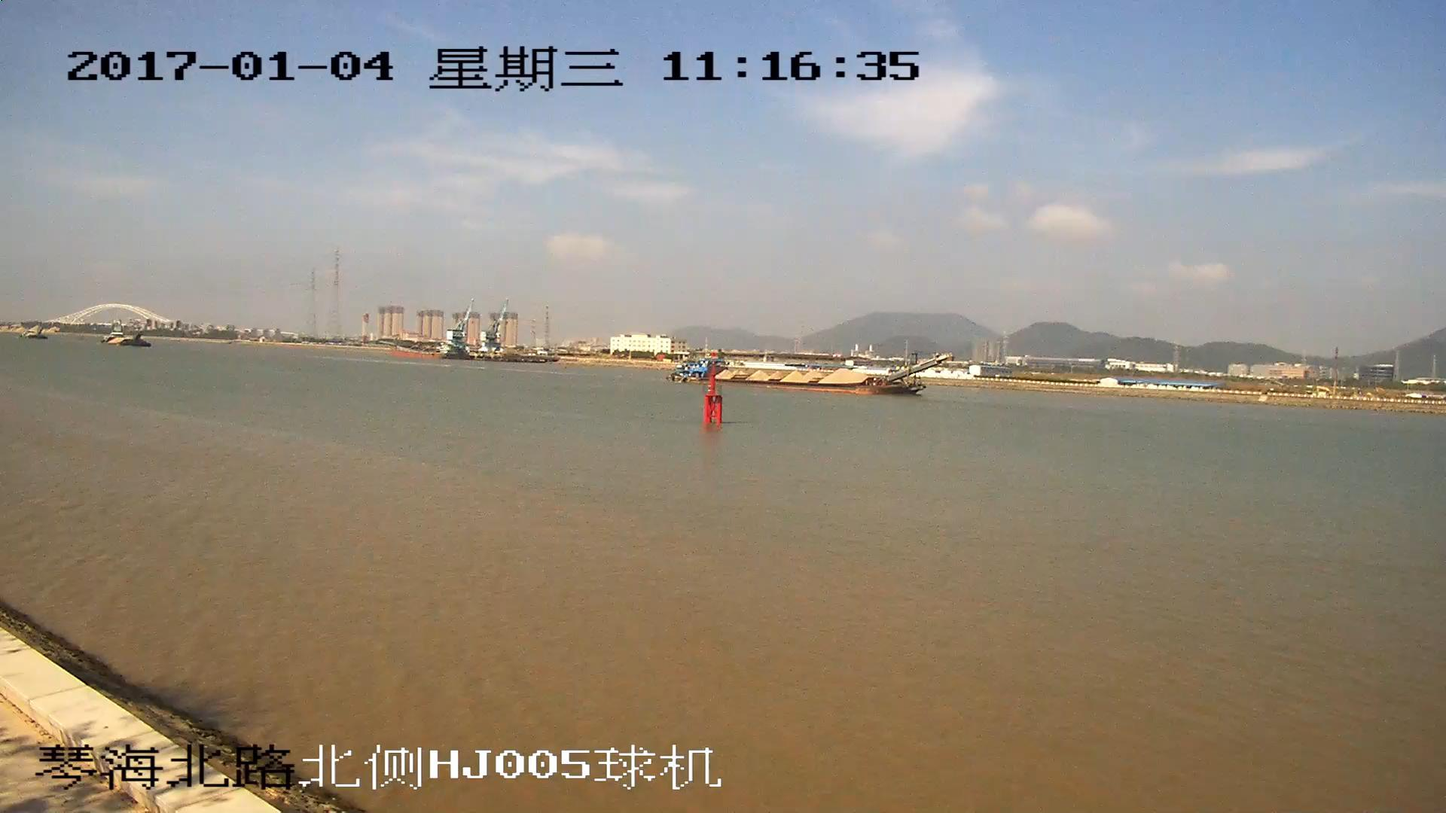ore carrier: (673, 356, 942, 394)
